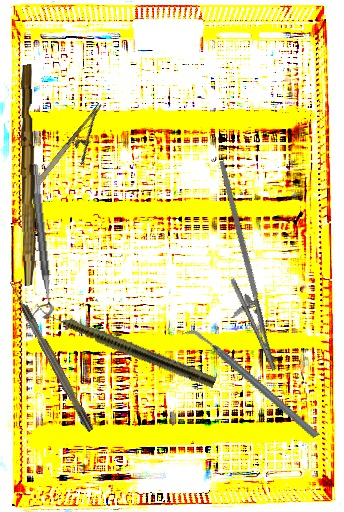Chopper: (182, 298, 321, 470)
Fixation Ring: (16, 163, 55, 321)
Handpiece: (31, 302, 218, 389)
Hook Surgical: (6, 278, 95, 434)
Needle Holder: (178, 159, 302, 378), (24, 101, 121, 209)
Scalpel Handle: (16, 64, 41, 286)
